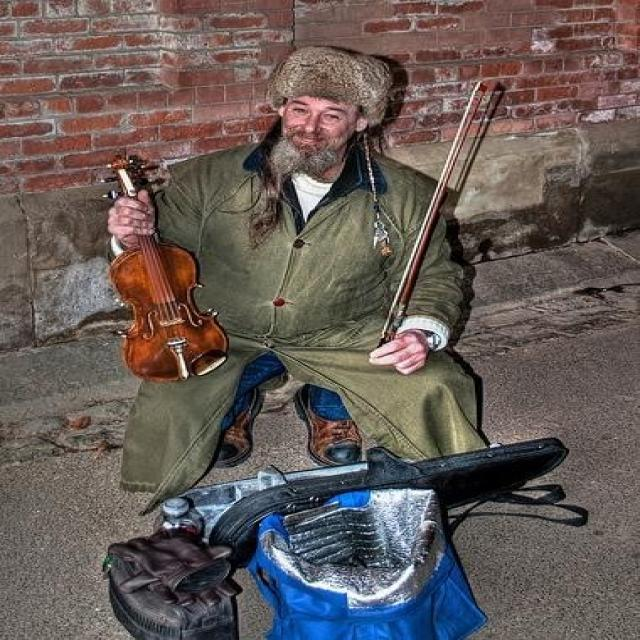violin: (100, 154, 233, 384)
